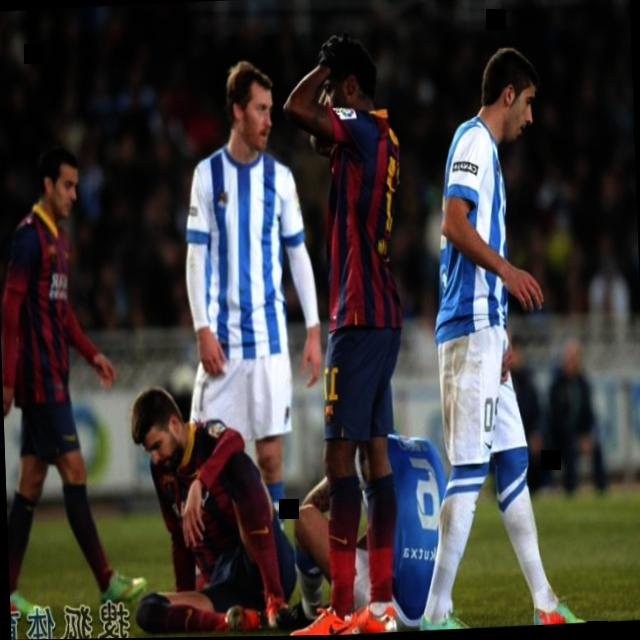Fall-Detected: (265, 422, 496, 637)
